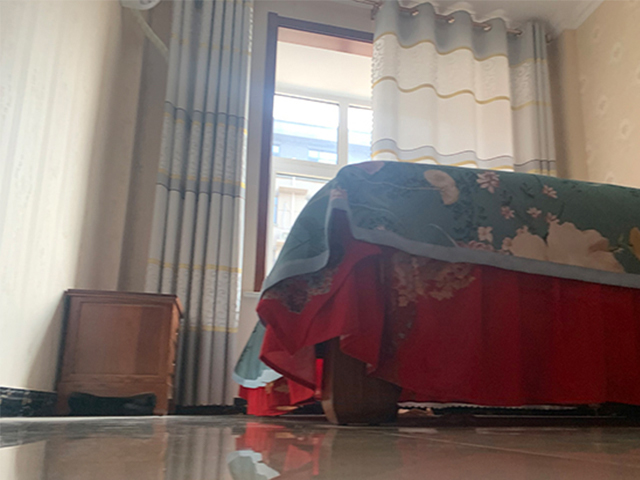bed: (233, 159, 640, 426)
cabinet: (52, 288, 184, 416)
curtain: (146, 1, 254, 406)
